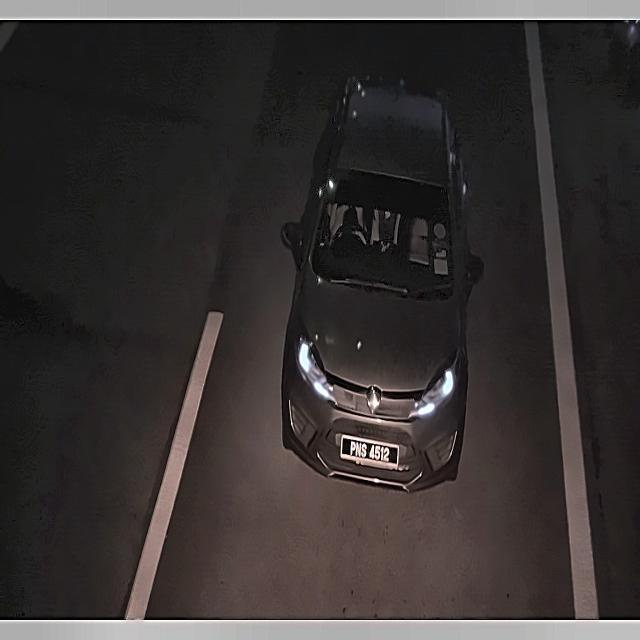car: (334, 436, 402, 473)
